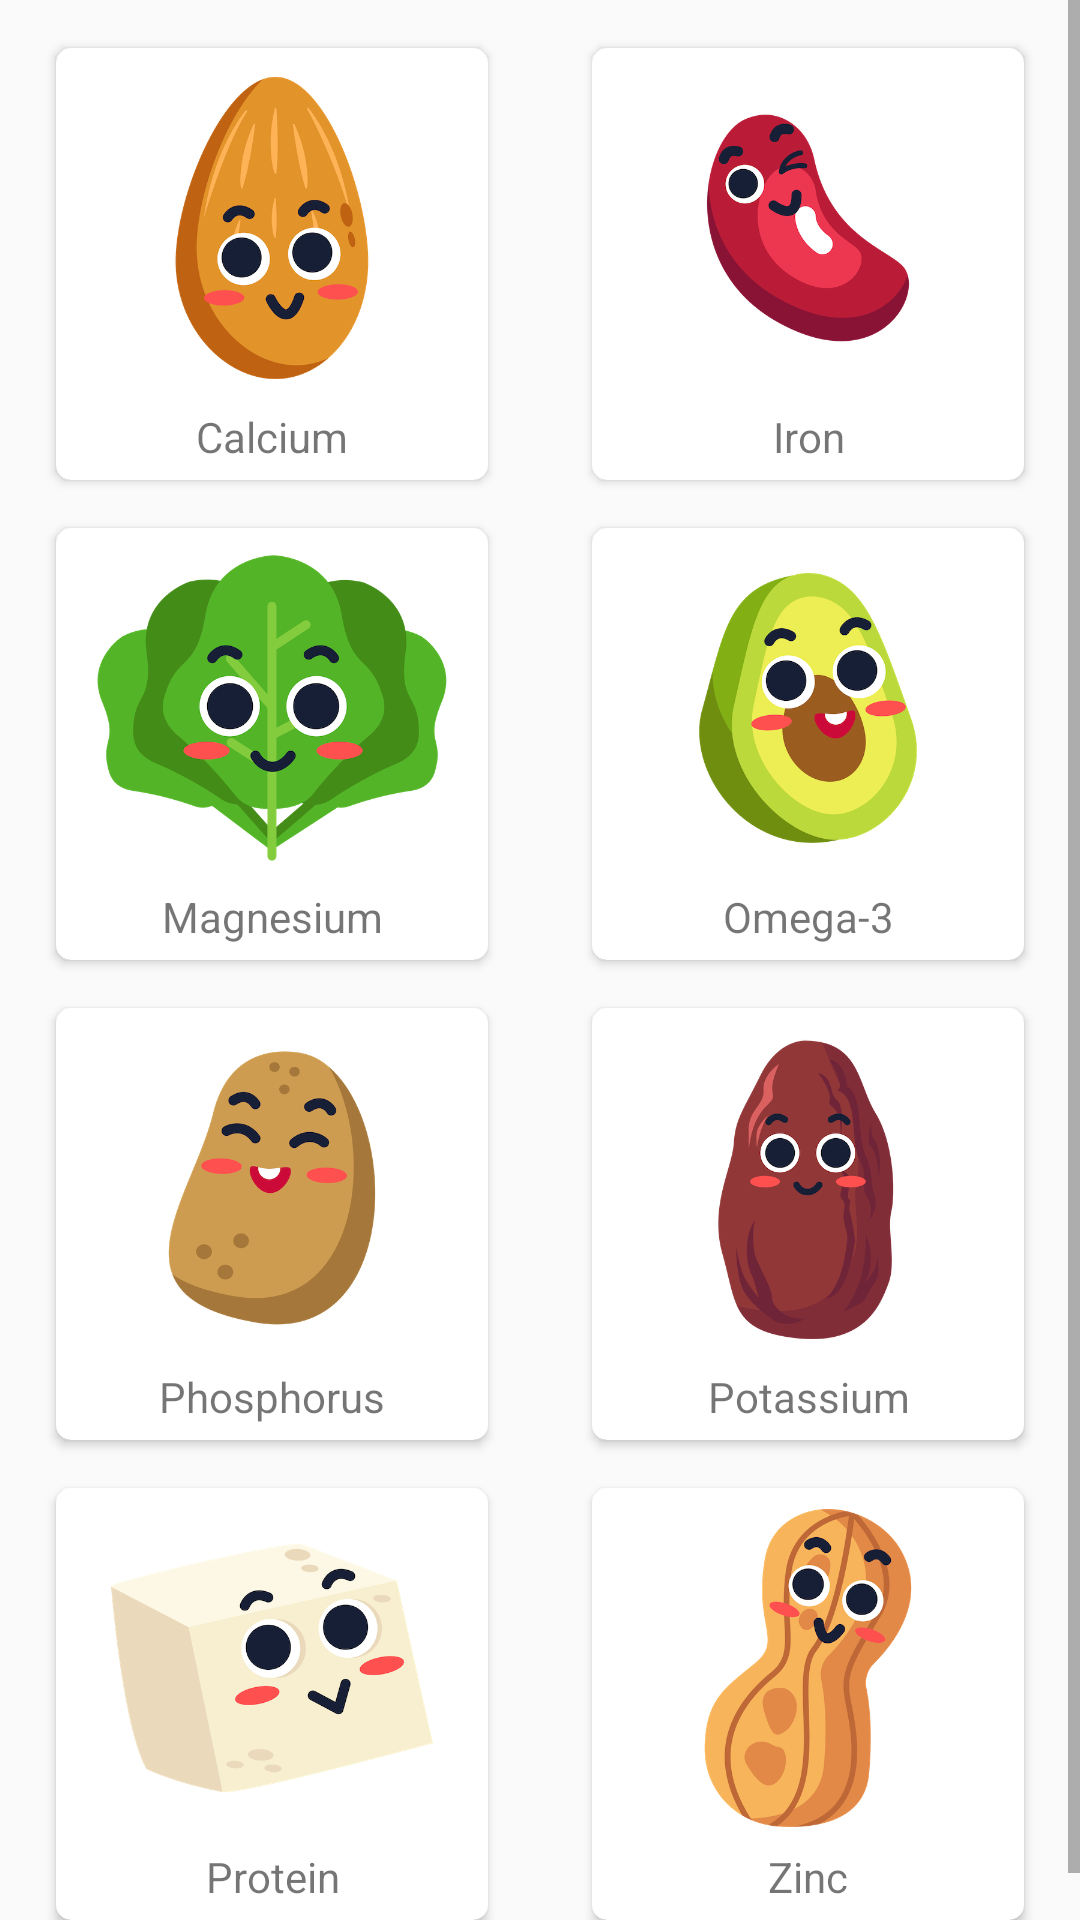

Icons on this 1080×1920 Android screen, each with its box as (x1, y1, x2, y2):
almond: (175, 77, 369, 379)
avocado: (699, 573, 917, 843)
date: (718, 1040, 893, 1339)
kidney bean: (707, 114, 909, 342)
peanut: (704, 1509, 912, 1827)
potato: (168, 1051, 375, 1325)
spinach: (97, 555, 447, 861)
tofu: (111, 1544, 433, 1792)
